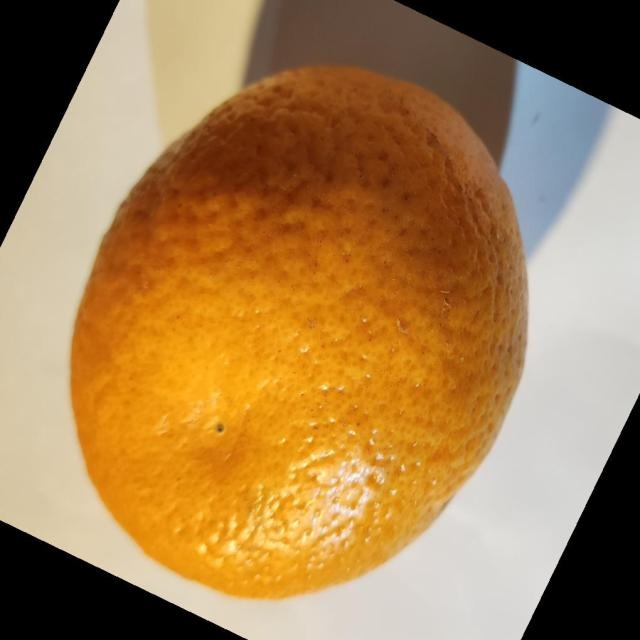agrume: (67, 62, 529, 600)
